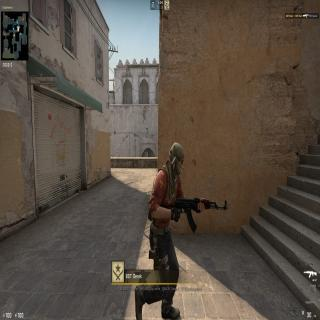T-Head: (167, 139, 185, 176)
